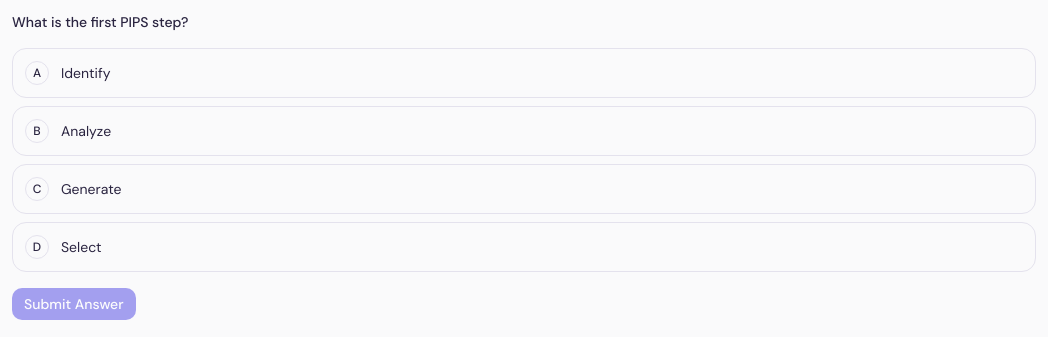
Test case: TrainingMultipleChoice › enables Submit button after selecting an option
What coordinates should you click on to do the following:
click the text "Identify"
I would click on:
 (86, 73)
Its box is [61, 64, 110, 82].
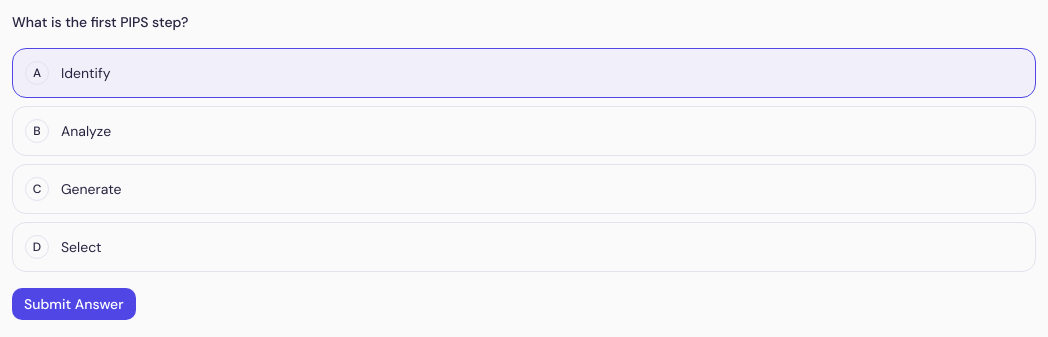
Expected: the button "Submit Answer" is enabled, [12, 288, 136, 320]
